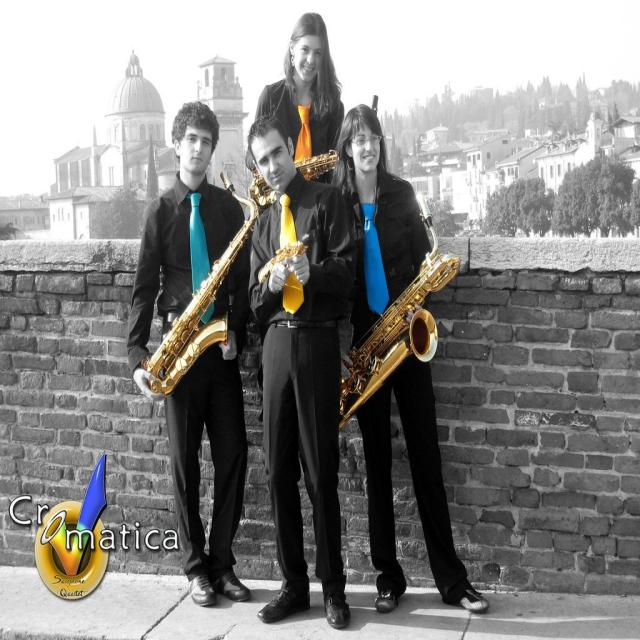saxophone: (334, 192, 464, 432), (140, 170, 258, 402)
